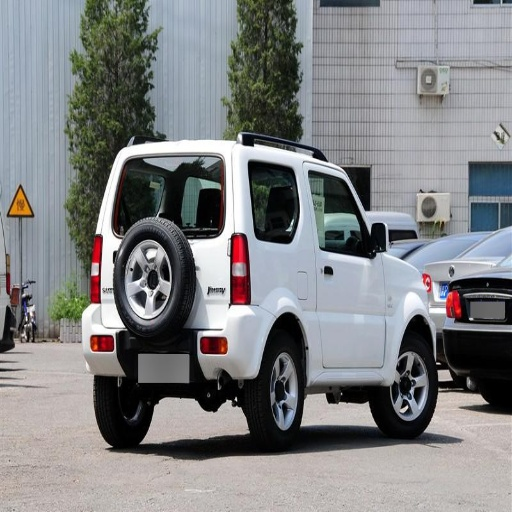back_right_door: (298, 161, 341, 329), (182, 155, 214, 226)
trunk: (226, 313, 274, 378)
